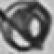not correct: (0, 0, 52, 52)
